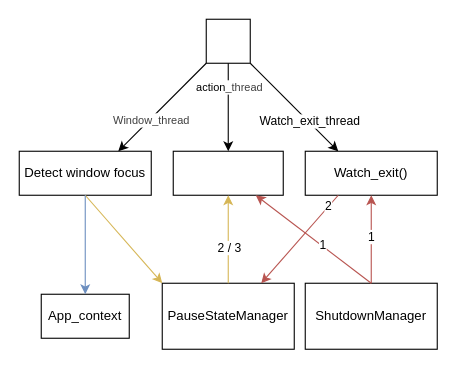
Some shapes in this 457 by 369 pixel diagram are drawn without their labels. Each missing label, with the box of its shape:
Main: (205, 18, 250, 63)
Main loop: (172, 150, 283, 195)
